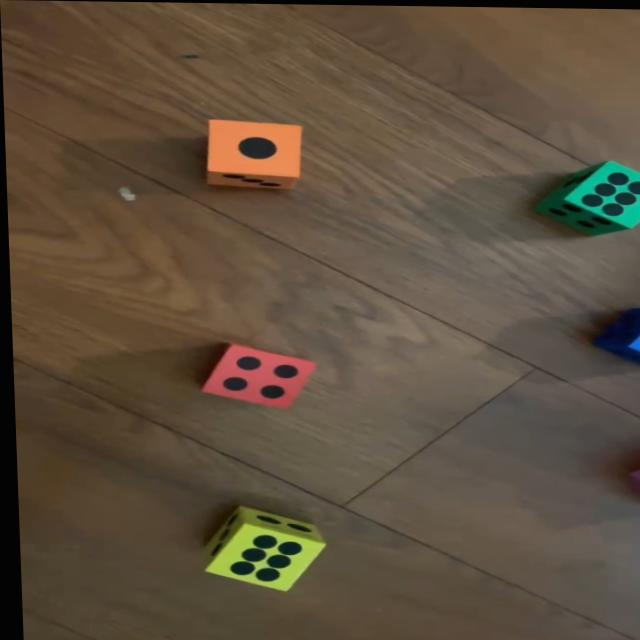blue_block: (592, 305, 640, 365)
red_block: (197, 342, 315, 409)
